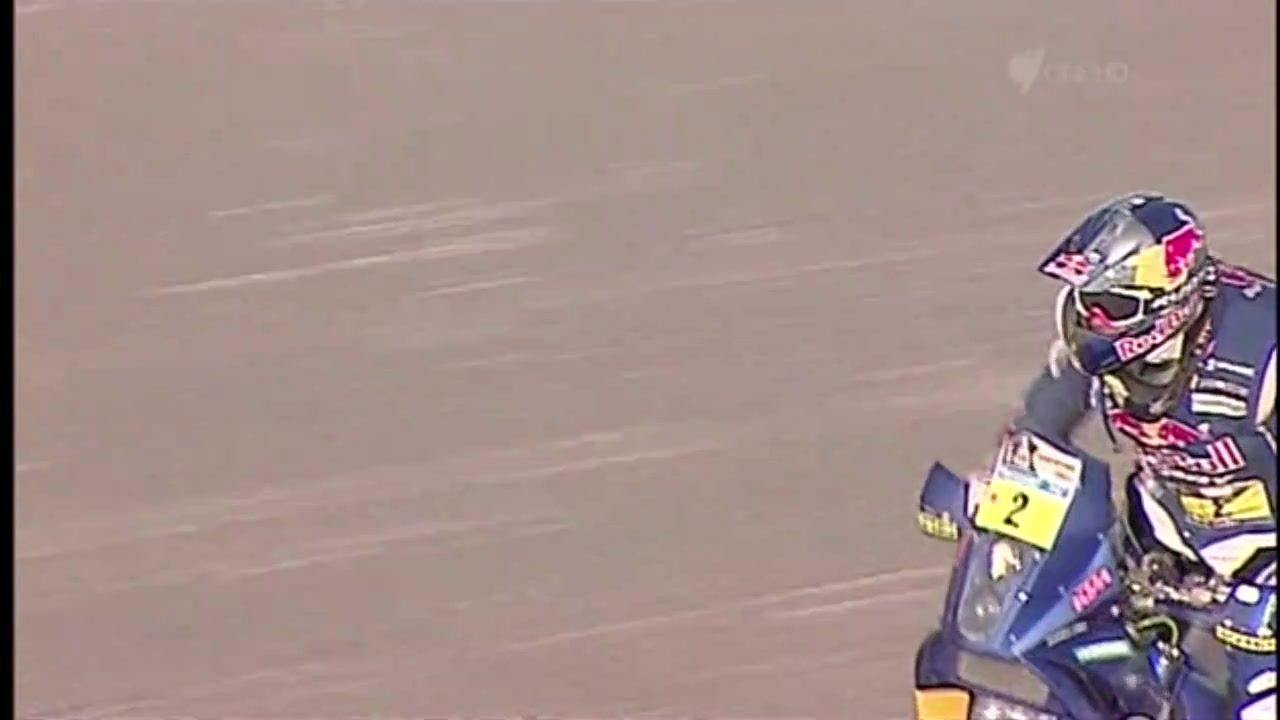motorbike: (911, 413, 1280, 720)
